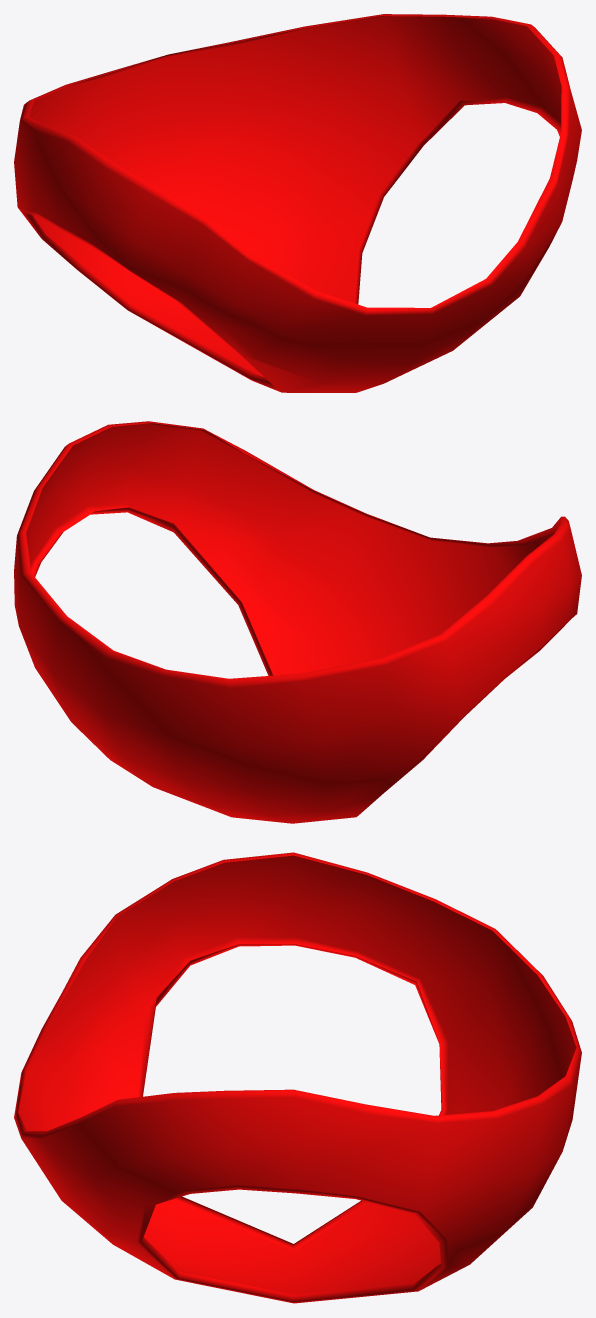
Rendered from pants-1.obj.
3 views of the same model, one above another, from view 1: azimuth 30°, elevation 25°; view 2: azimuth 150°, elevation 25°; view 3: azimuth 270°, elevation 25° (orthographic). The views are drawn at different scales.
Visible parts, largest first — view 1: polySurface235 body; view 2: polySurface235 body; view 3: polySurface235 body.
Boxes of the visible parts, <box> form: polySurface235 body: <box>14,14,581,392</box>; polySurface235 body: <box>14,421,581,823</box>; polySurface235 body: <box>14,852,581,1303</box>.
Bounding box in the file's own units: 4.75 × 2.73 × 4.52.
